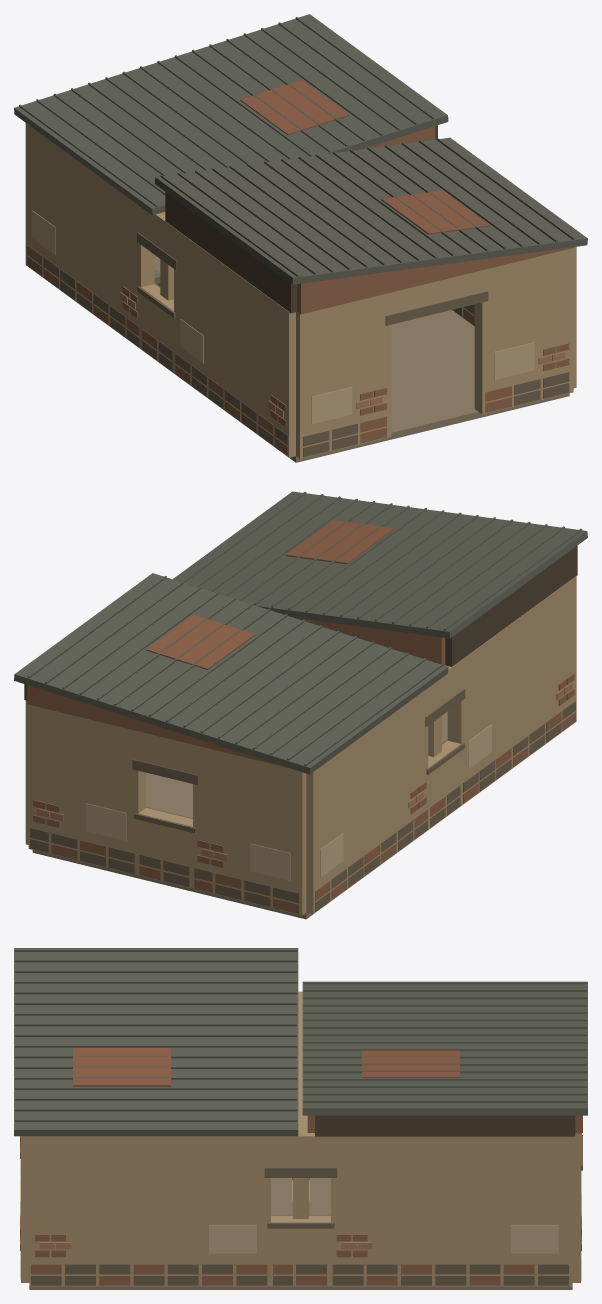
Rendered from FSA_ENV_Abandoned_House_02_Long.glb.
The picture shows the model from 3 angles, top to bottom: view 1: azimuth 30°, elevation 25°; view 2: azimuth 150°, elevation 25°; view 3: azimuth 270°, elevation 25°; orthographic projection. The views are drawn at different scales.
Visible parts, largest first — view 1: Roof_Back, Roof_Front, WestRight, WestLeft, FrontRight, FrontLeft, Floor, RoofEave_342, RoofPatch_291, RoofPatch_273, FrontLintel, WestSill (+7 smaller); view 2: Roof_Back, Roof_Front, WestLeft, WestRight, BackLeft, BackRight, RoofEave_342, RoofPatch_291, Floor, BackSill, RoofPatch_273, WestSill (+8 smaller); view 3: Roof_Front, EastLeft, EastRight, Roof_Back, RoofEave_396, RoofPatch_273, Floor, EastSill, RoofPatch_291, EastLintel, Repair_174, Repair_202 (+39 smaller).
Part boxes in pixels (bbox=[...]): Roof_Back: bbox=[14, 14, 448, 215]; Roof_Front: bbox=[154, 137, 587, 284]; WestRight: bbox=[174, 228, 295, 457]; WestLeft: bbox=[25, 123, 154, 348]; FrontRight: bbox=[474, 248, 573, 414]; FrontLeft: bbox=[296, 292, 391, 458]; Floor: bbox=[154, 255, 569, 462]; RoofEave_342: bbox=[165, 192, 297, 313]; RoofPatch_291: bbox=[240, 80, 349, 135]; RoofPatch_273: bbox=[381, 190, 489, 234]; FrontLintel: bbox=[391, 270, 482, 314]; WestSill: bbox=[141, 284, 173, 373]; Roof_Back: bbox=[14, 573, 448, 774]; Roof_Front: bbox=[173, 491, 587, 638]; WestLeft: bbox=[306, 688, 428, 914]; WestRight: bbox=[447, 576, 576, 805]; BackLeft: bbox=[193, 744, 306, 915]; BackRight: bbox=[28, 704, 145, 875]; RoofEave_342: bbox=[445, 545, 577, 666]; RoofPatch_291: bbox=[146, 615, 255, 669]; Floor: bbox=[32, 711, 447, 919]; BackSill: bbox=[138, 808, 192, 888]; RoofPatch_273: bbox=[286, 520, 394, 564]; WestSill: bbox=[428, 740, 461, 829]; Roof_Front: bbox=[14, 948, 298, 1136]; EastLeft: bbox=[331, 1136, 572, 1286]; EastRight: bbox=[29, 1136, 270, 1286]; Roof_Back: bbox=[302, 981, 587, 1115]; RoofEave_396: bbox=[315, 1115, 575, 1136]; RoofPatch_273: bbox=[73, 1047, 170, 1086]; Floor: bbox=[29, 1178, 572, 1289]; EastSill: bbox=[271, 1215, 330, 1286]; RoofPatch_291: bbox=[362, 1050, 459, 1077]; EastLintel: bbox=[271, 1129, 330, 1167]; Repair_174: bbox=[510, 1225, 558, 1253]; Repair_202: bbox=[209, 1225, 256, 1253].
Size of the model in its own units: 6.49 by 4.06 by 10.56.
